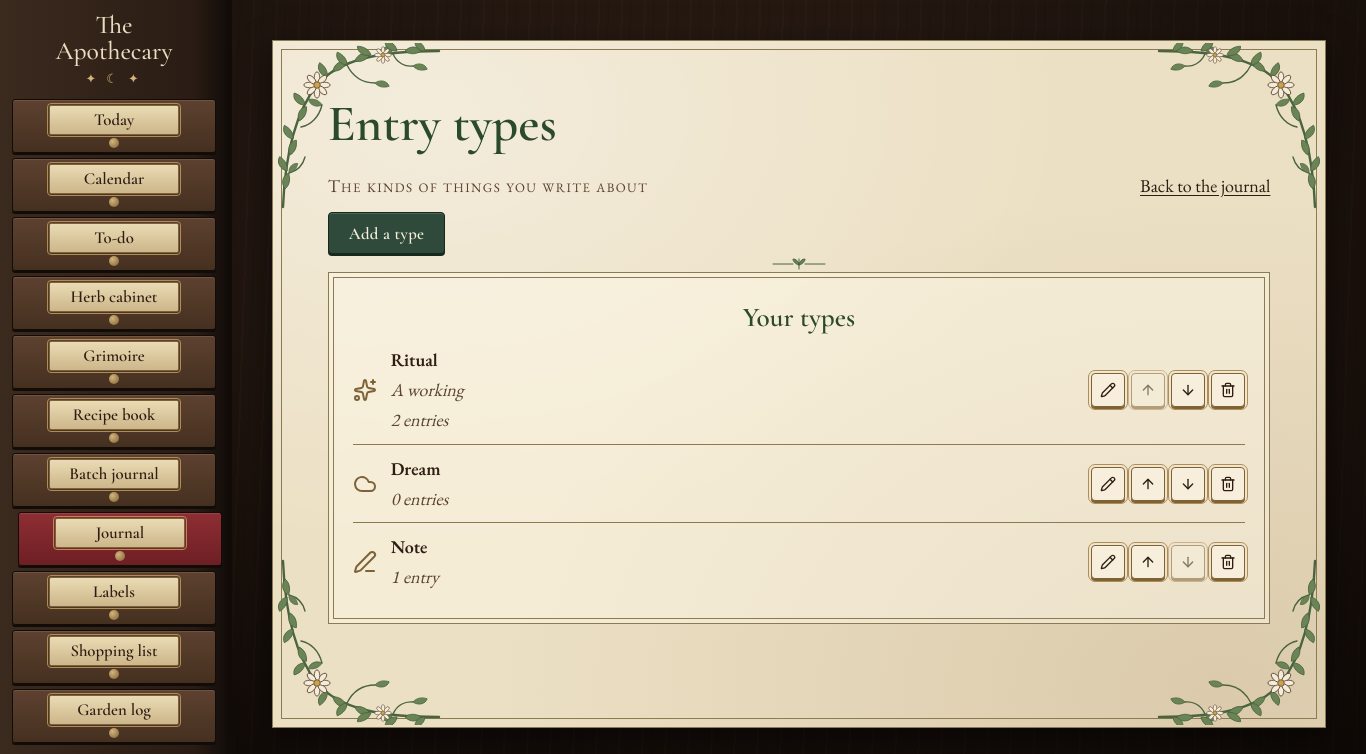
it: deletes a type with no entries after confirming
Expected: the text "Dream" is shown, x1=391 y1=457 x2=440 y2=480
Click the button named "Delete Dream": point(1228, 484) x1=1211 y1=466 x2=1245 y2=500
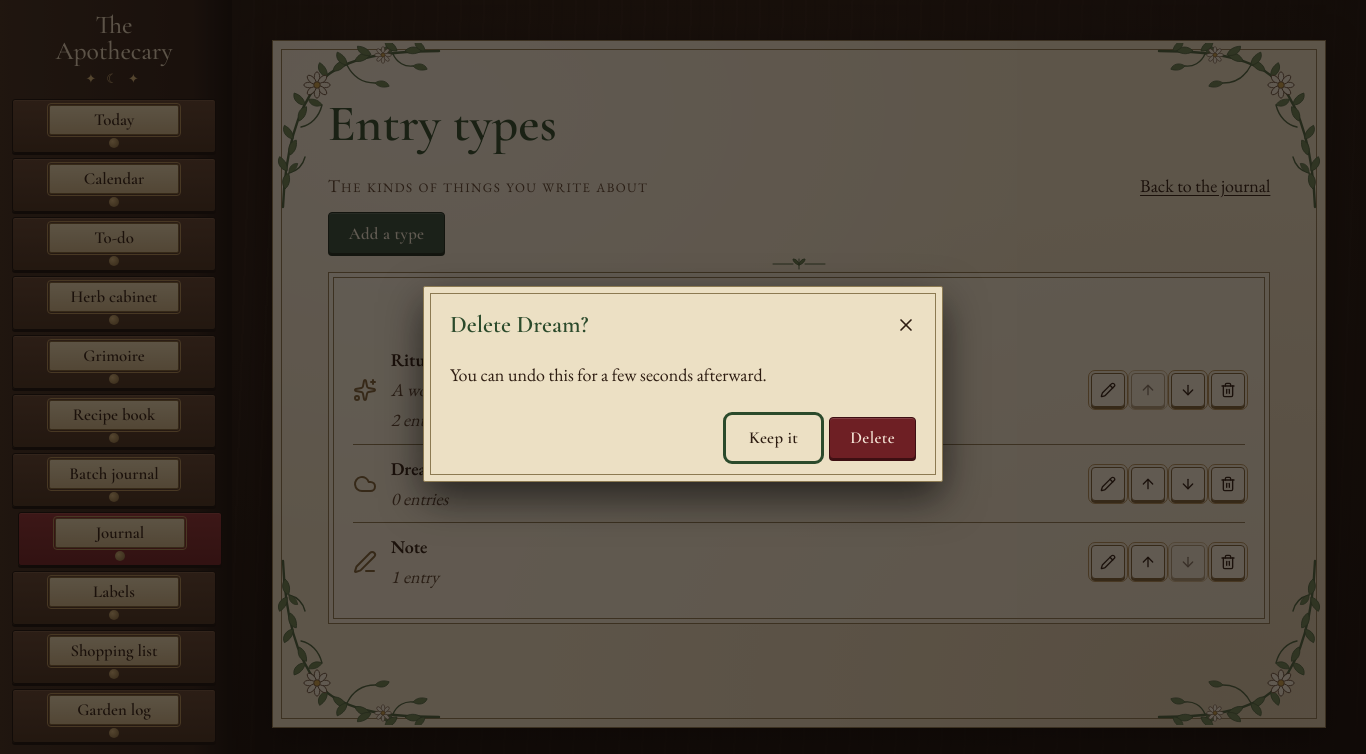
Click the button "Delete": point(873, 438) x1=829 y1=417 x2=916 y2=459
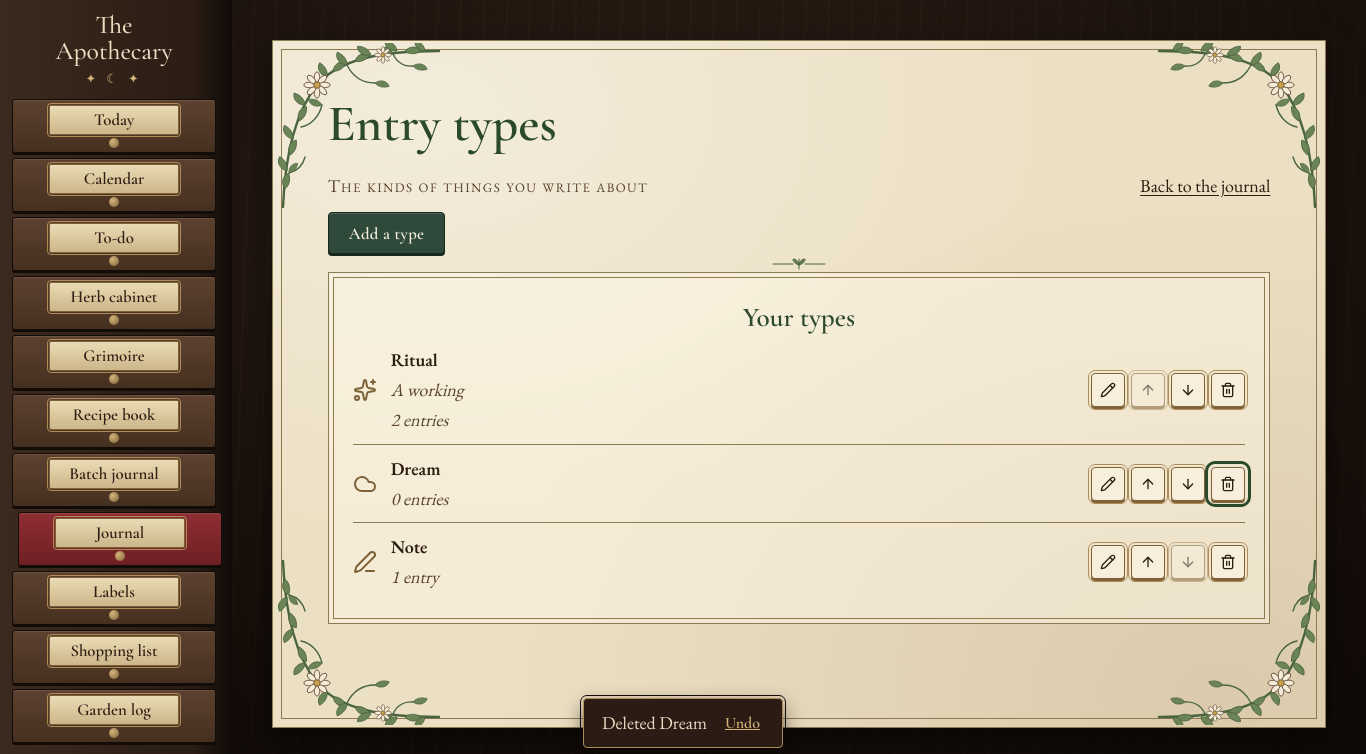
Result: the text "Deleted Dream" is shown at x1=602 y1=709 x2=707 y2=737
